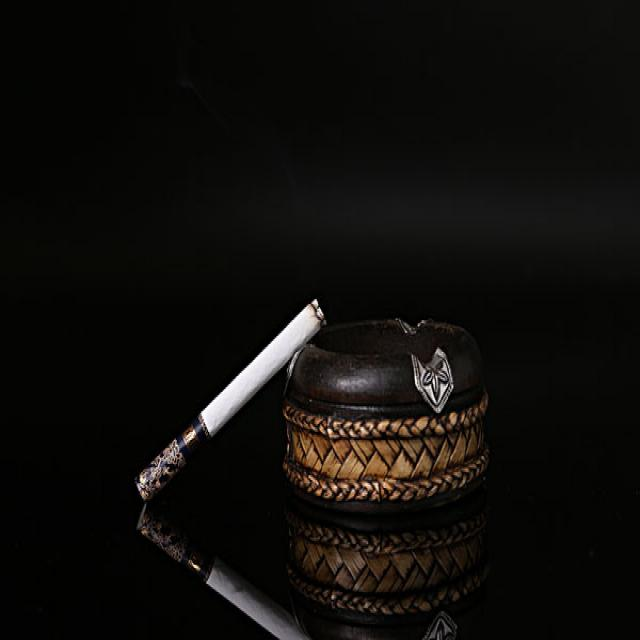smoking: (134, 296, 328, 502), (134, 505, 309, 639)
